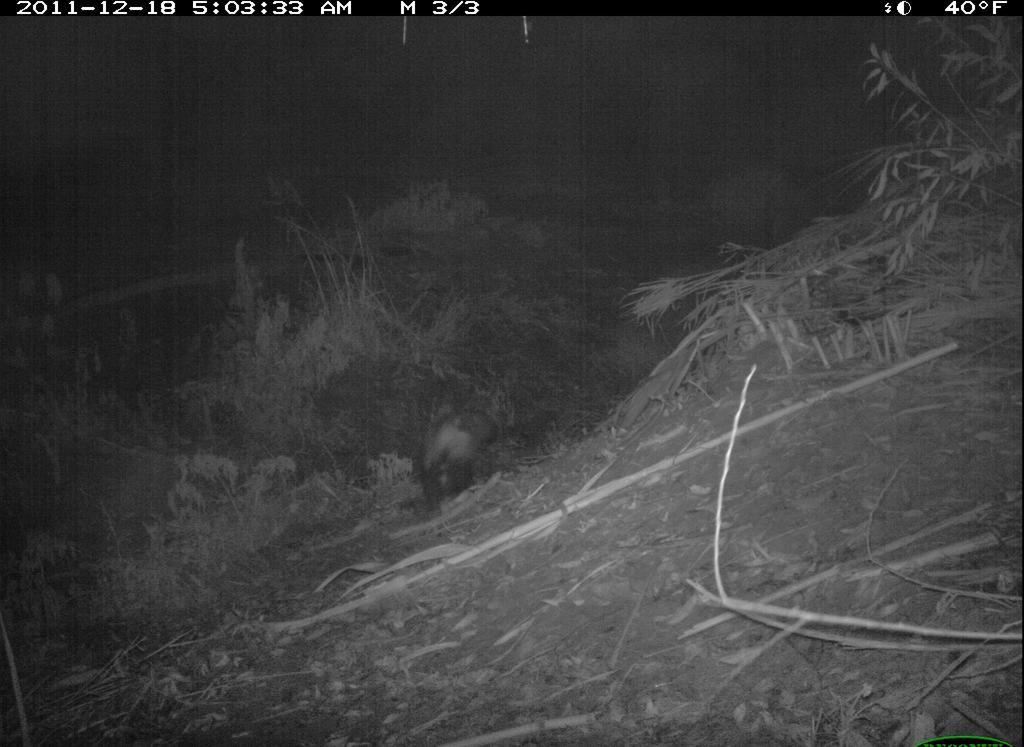skunk: (408, 386, 524, 511)
